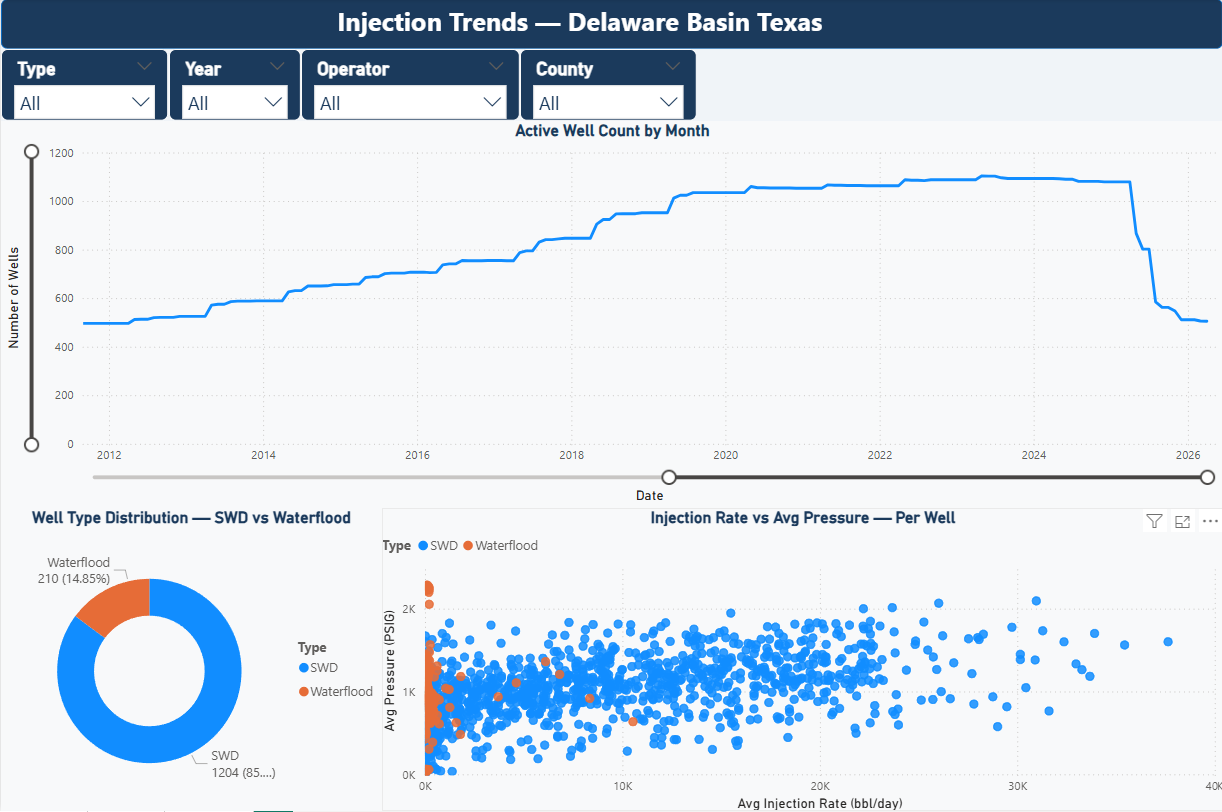

The dashboard page shown, as its layout file describes it:
{"tool":"powerbi","page":{"name":"Trends","canvas":[1280,850],"ordinal":1},"visuals":[{"type":"shape","box":[0,0,1280,52.2],"z":0},{"type":"textbox","box":[340.5,0,531.5,52.2],"z":1000},{"type":"slicer","fields":{"Values":["InjectionWells.OperatorName"]},"box":[314,52.9,229.4,75.1],"z":2000},{"type":"lineChart","title":"Active Well Count by Month","fields":{"Category":["InjectionWells.MonthYr"],"Y":["InjectionWells.Active Wells Count"]},"box":[0,127.9,1280.3,404.9],"z":3000},{"type":"slicer","fields":{"Values":["InjectionWells.Type"]},"box":[0,52.9,175.5,75.1],"z":4000},{"type":"donutChart","title":"Well Type Distribution — SWD vs Waterflood","fields":{"Category":["InjectionWells.Type"],"Y":["InjectionWells.Active Wells Count"]},"box":[0,532.8,398.6,317.2],"z":5000},{"type":"slicer","fields":{"Values":["DateTable.Date.Variation.Date Hierarchy.Year"]},"box":[175.5,52.9,138.5,75.1],"z":6000},{"type":"scatterChart","title":"Injection Rate vs Avg Pressure — Per Well","fields":{"X":["InjectionWells.Avg Rate per Well"],"Y":["InjectionWells.Avg Pressure per Well"],"Category":["InjectionWells.WellApi"],"Series":["InjectionWells.Type"]},"box":[398.6,532.8,881.7,317.2],"z":7000},{"type":"slicer","fields":{"Values":["InjectionWells.County"]},"box":[543.4,52.9,185,75.1],"z":8000}]}

Visuals, with their boxes in screenshot pixels (x1, y1, x2, y2), scaled from the page's 1280x850 canvas onto the 1222x812 screenshot:
shape: <region>0, 0, 1221, 50</region>
textbox: <region>325, 0, 832, 50</region>
slicer - InjectionWells.OperatorName: <region>300, 51, 519, 122</region>
"Active Well Count by Month" lineChart: <region>0, 122, 1221, 509</region>
slicer - InjectionWells.Type: <region>0, 51, 168, 122</region>
"Well Type Distribution — SWD vs Waterflood" donutChart: <region>0, 509, 381, 811</region>
slicer - DateTable.Date.Variation.Date Hierarchy.Year: <region>168, 51, 300, 122</region>
"Injection Rate vs Avg Pressure — Per Well" scatterChart: <region>381, 509, 1221, 811</region>
slicer - InjectionWells.County: <region>519, 51, 695, 122</region>
